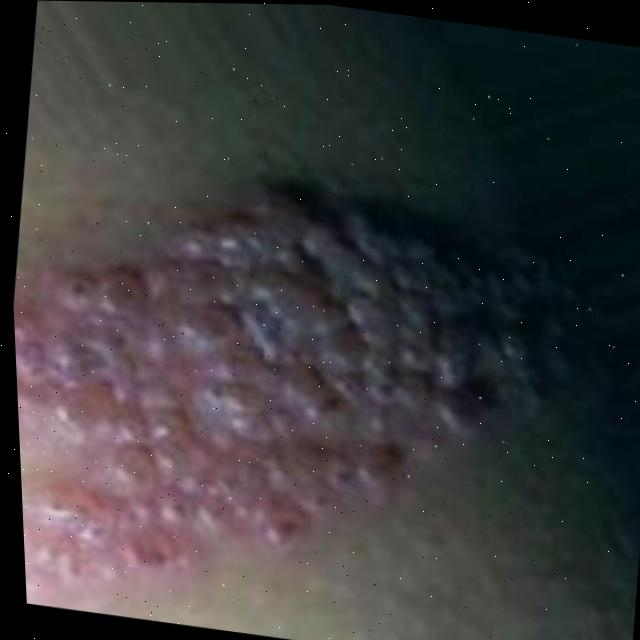Shingles: (6, 139, 640, 640)
